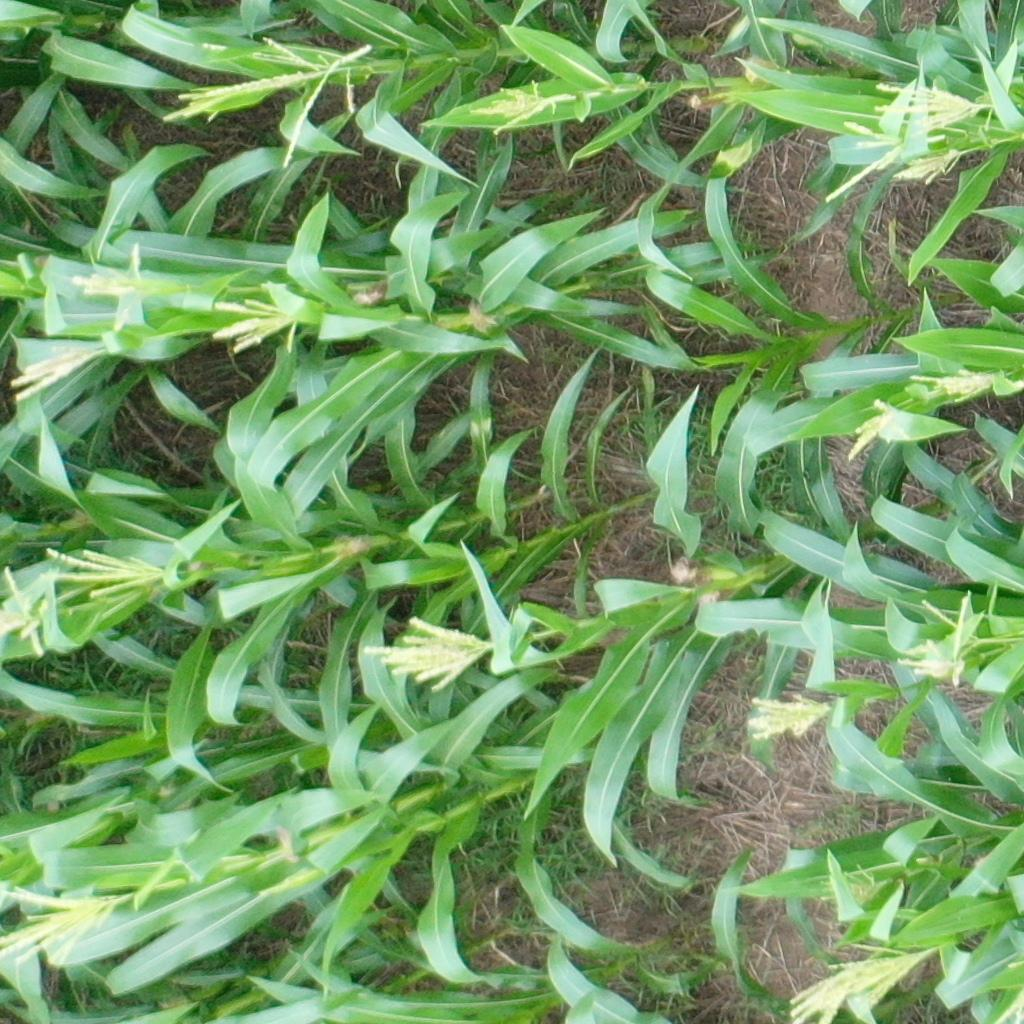Tassel: (162, 33, 376, 169), (1, 875, 133, 966), (782, 950, 943, 1024), (364, 615, 500, 694), (823, 114, 947, 200), (893, 599, 993, 687), (45, 537, 177, 600), (210, 282, 309, 357), (876, 68, 987, 129), (1, 564, 57, 666), (736, 687, 836, 743), (473, 79, 570, 136), (62, 243, 154, 302), (9, 348, 111, 399), (898, 362, 1000, 405), (847, 398, 907, 466), (822, 862, 898, 909), (891, 149, 965, 184)
